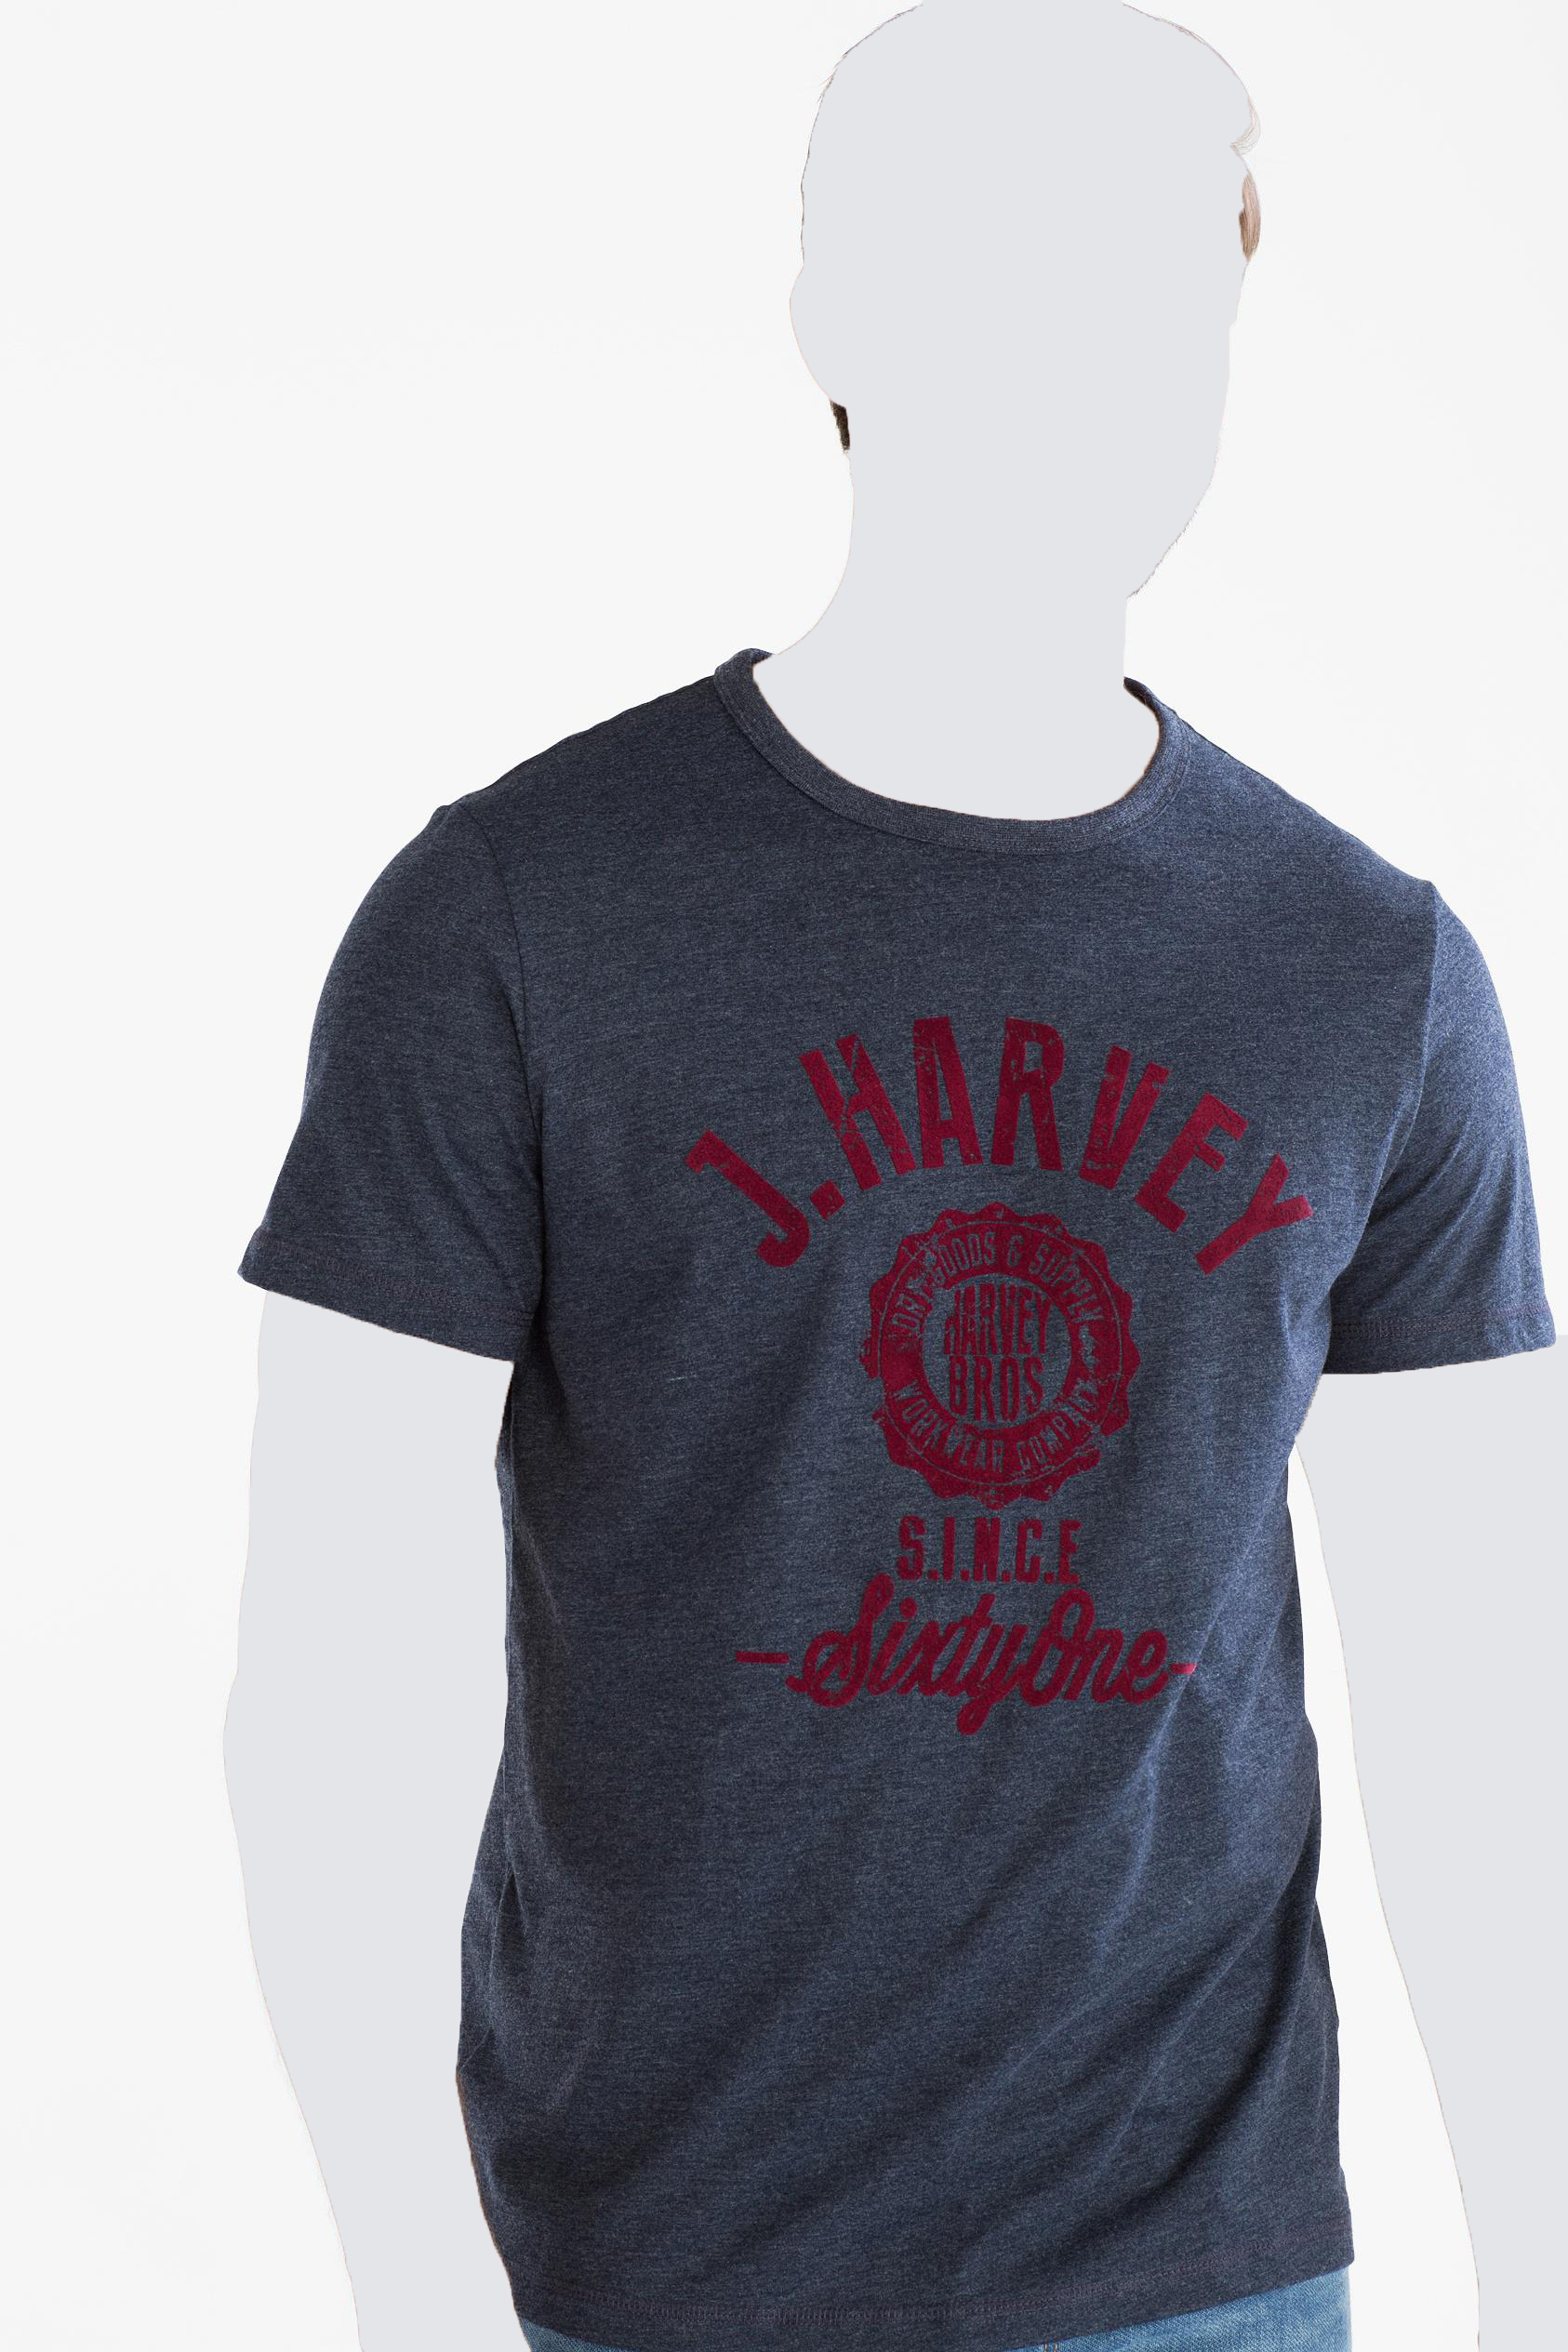teeshirt: (227, 646, 1568, 2347)
